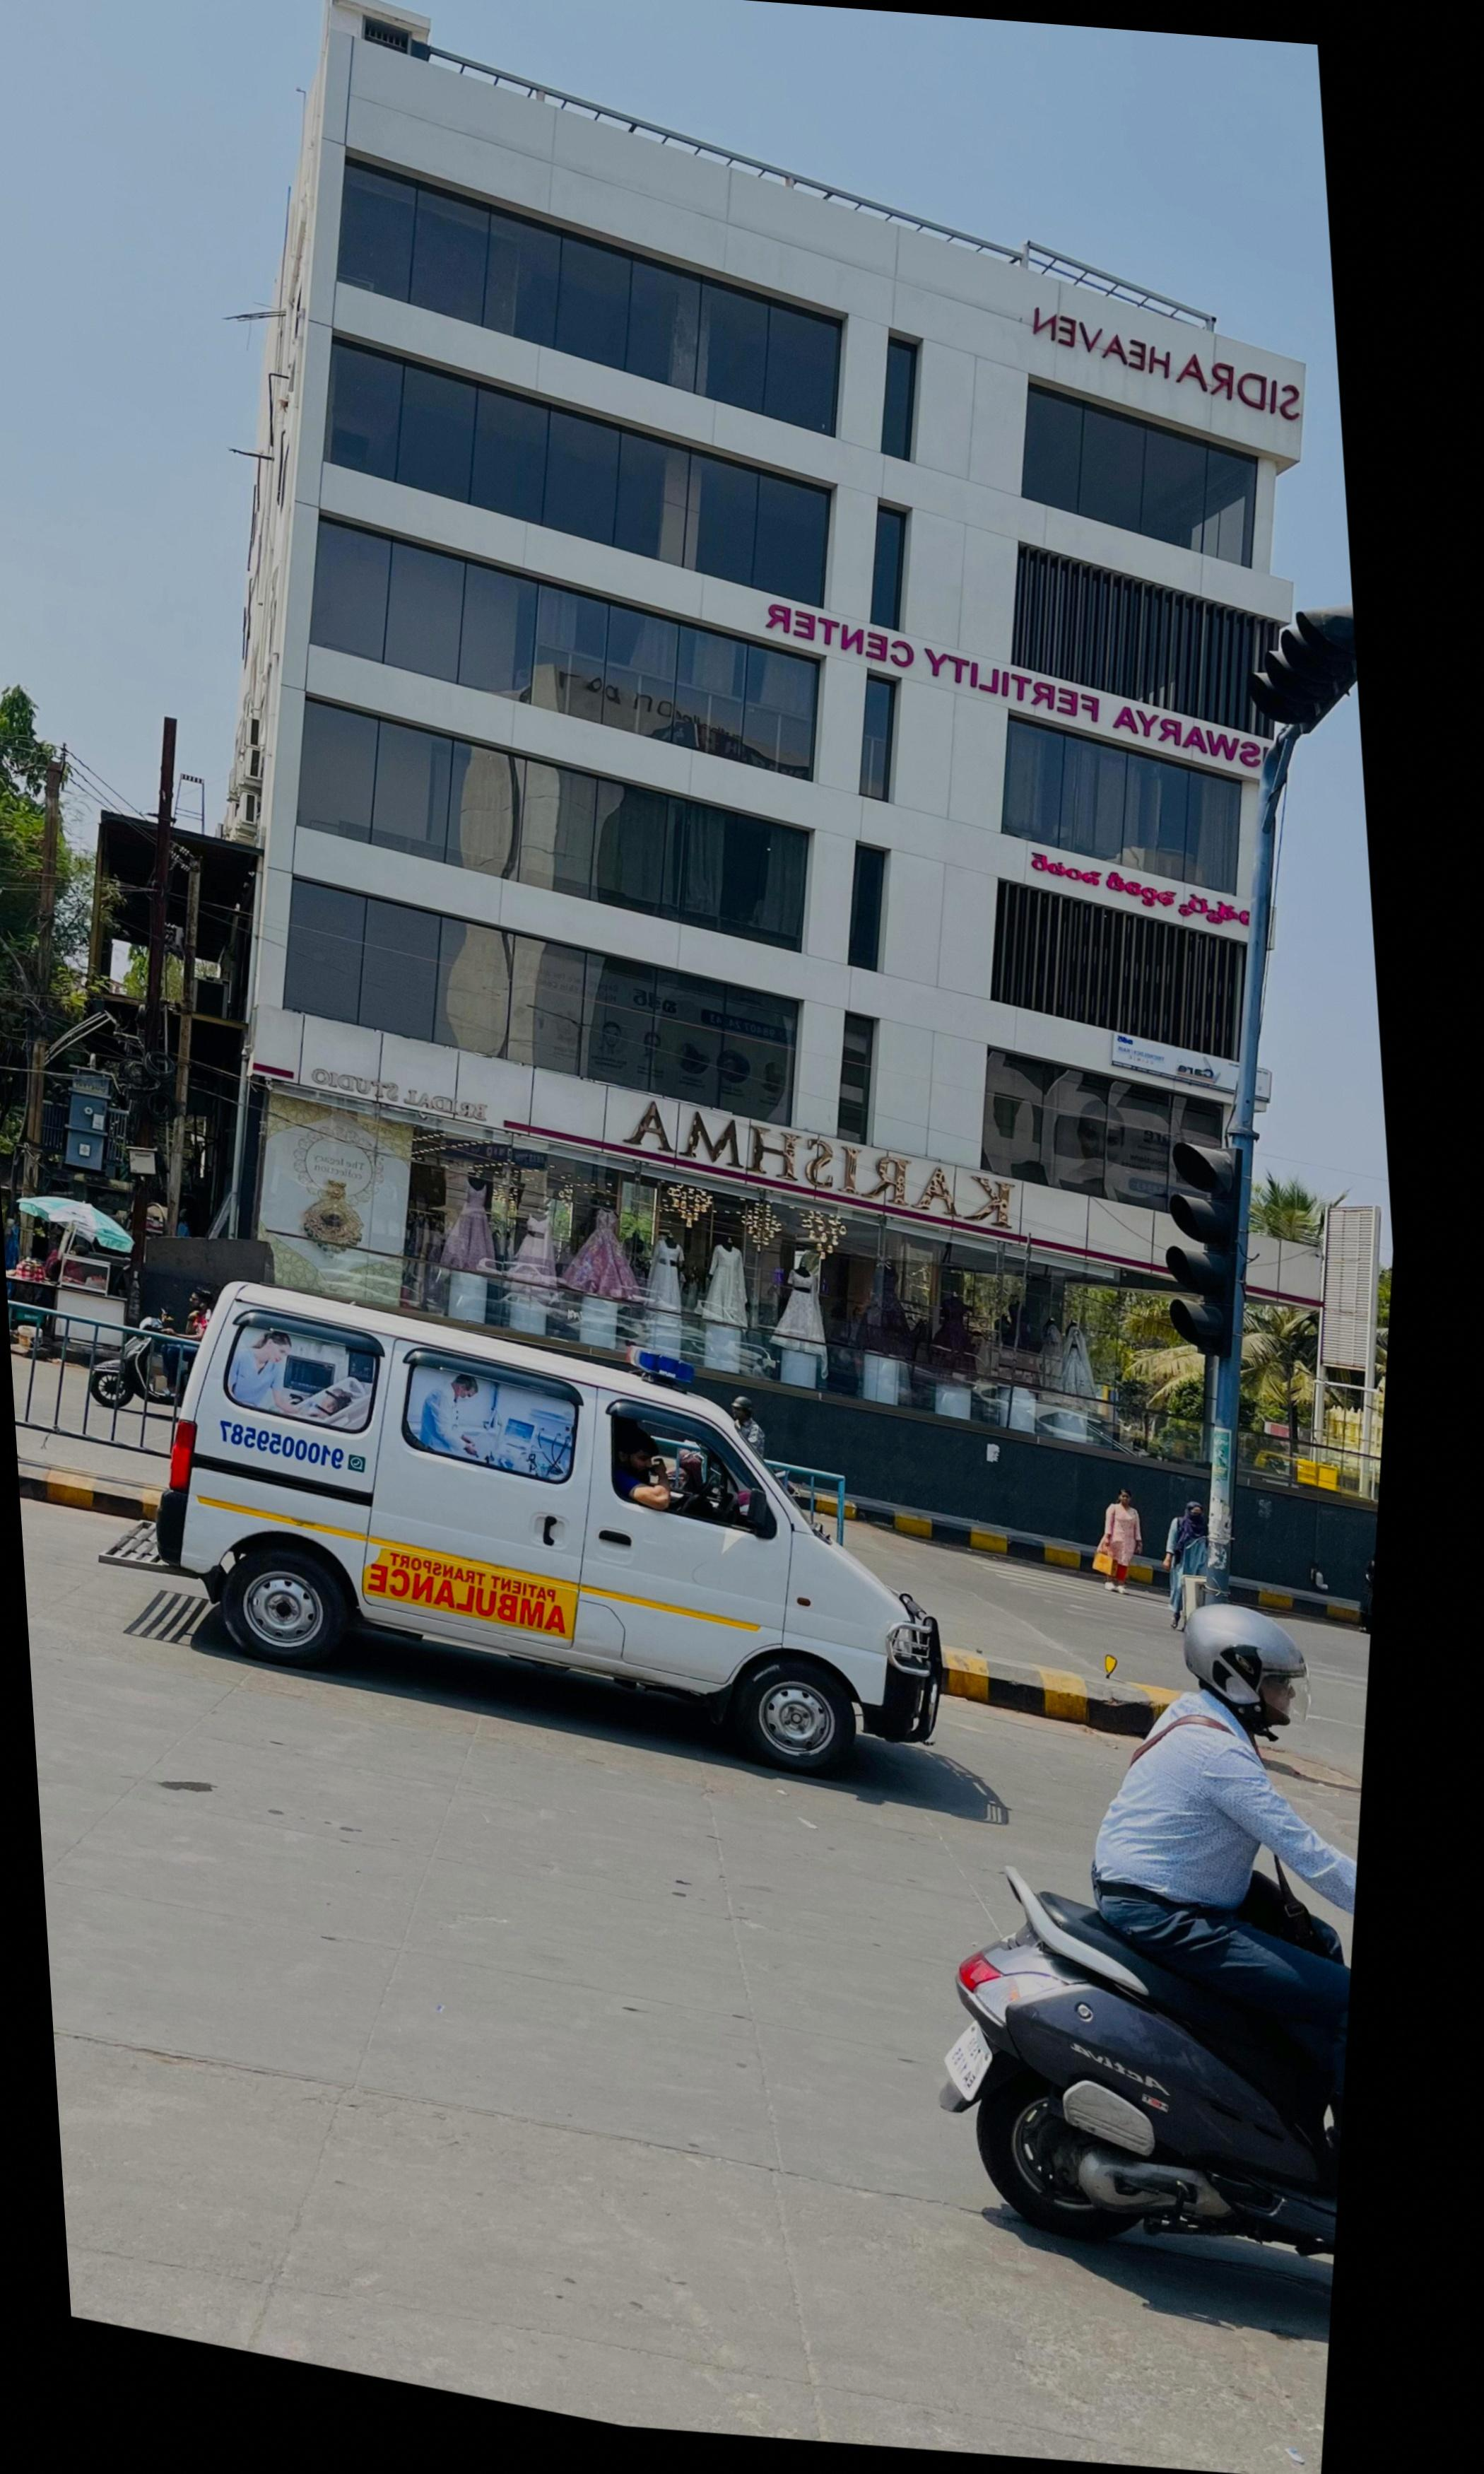ambulance: (148, 1290, 945, 1778)
